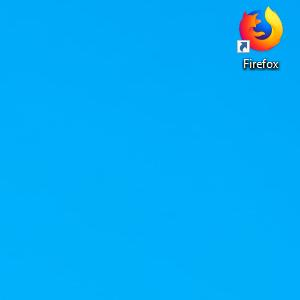firefox: (237, 4, 284, 54)
